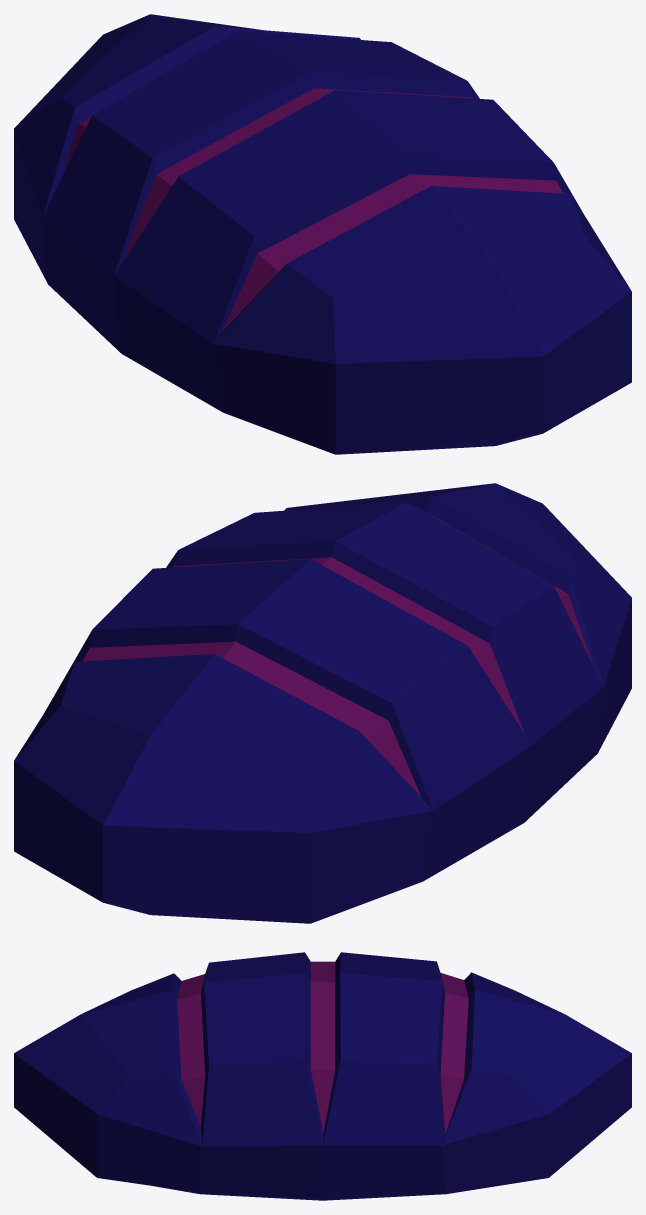
File: MESH_Bread.fbx
3 views of the same model, one above another, from view 1: azimuth 30°, elevation 25°; view 2: azimuth 150°, elevation 25°; view 3: azimuth 270°, elevation 25° (orthographic). The views are drawn at different scales.
Parts seen in each view (by area): view 1: MESH_Bread; view 2: MESH_Bread; view 3: MESH_Bread.
Part boxes in pixels (x1=…): MESH_Bread: x1=14, y1=14, x2=631, y2=454; MESH_Bread: x1=14, y1=483, x2=631, y2=923; MESH_Bread: x1=14, y1=952, x2=631, y2=1200.
Bounding box in the file's own units: 0.145 × 0.0884 × 0.2644.
